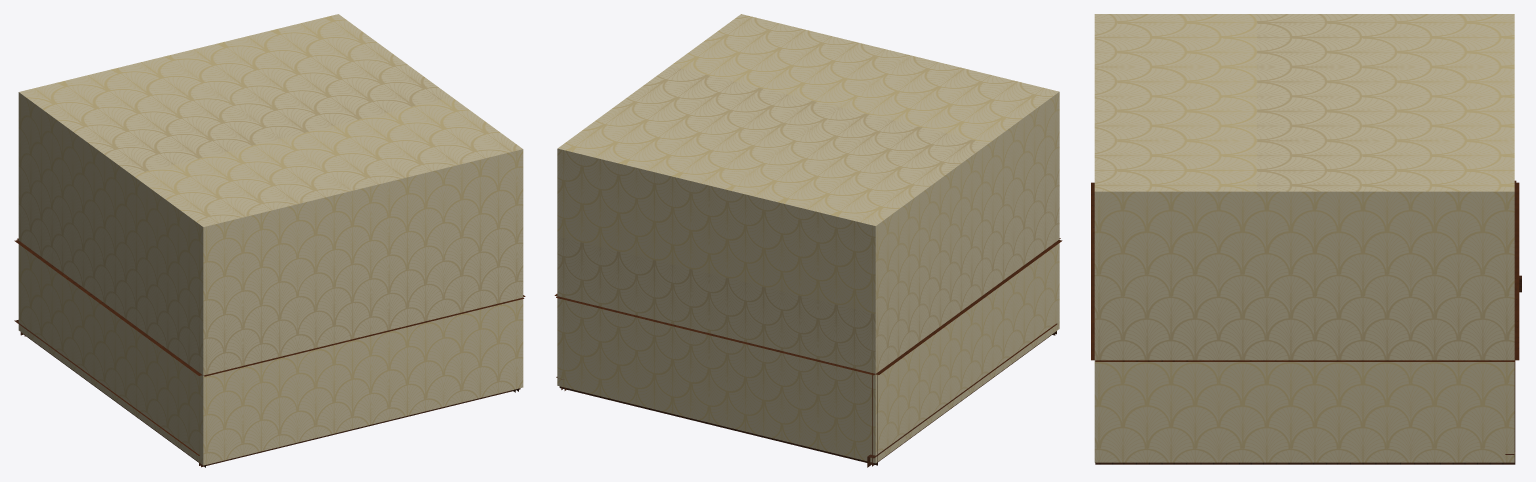
File: M_Walls.fbx
3 renders of one model, left to right at view 1: azimuth 30°, elevation 25°; view 2: azimuth 150°, elevation 25°; view 3: azimuth 270°, elevation 25°, orthographic. The views are drawn at different scales.
Parts seen in each view (by area): view 1: wall02, wall01; view 2: wall02, wall01; view 3: wall02, wall01.
Part boxes in pixels (x1,y1,x2,y2): wall02: (18,14,523,465); wall01: (14,238,525,467); wall02: (557,14,1059,463); wall01: (554,238,1062,467); wall02: (1094,14,1514,462); wall01: (1091,180,1521,464).
Size of the model in its own units: 46.96 by 33.26 by 47.15.
Materials: 2 (2 with a texture image).
